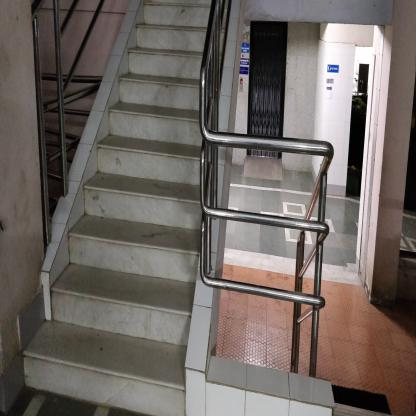stairs: (76, 170, 193, 413)
